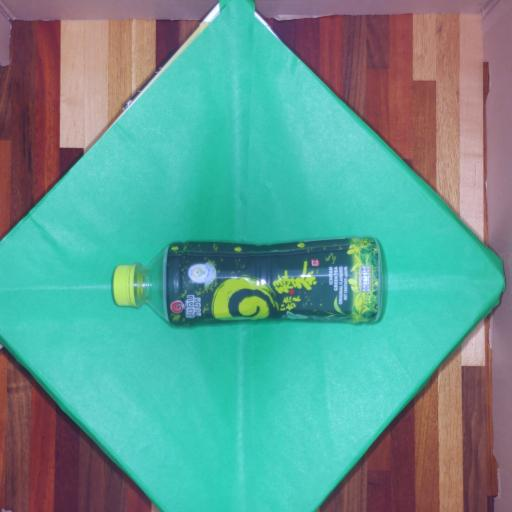bottle: (113, 238, 381, 325)
